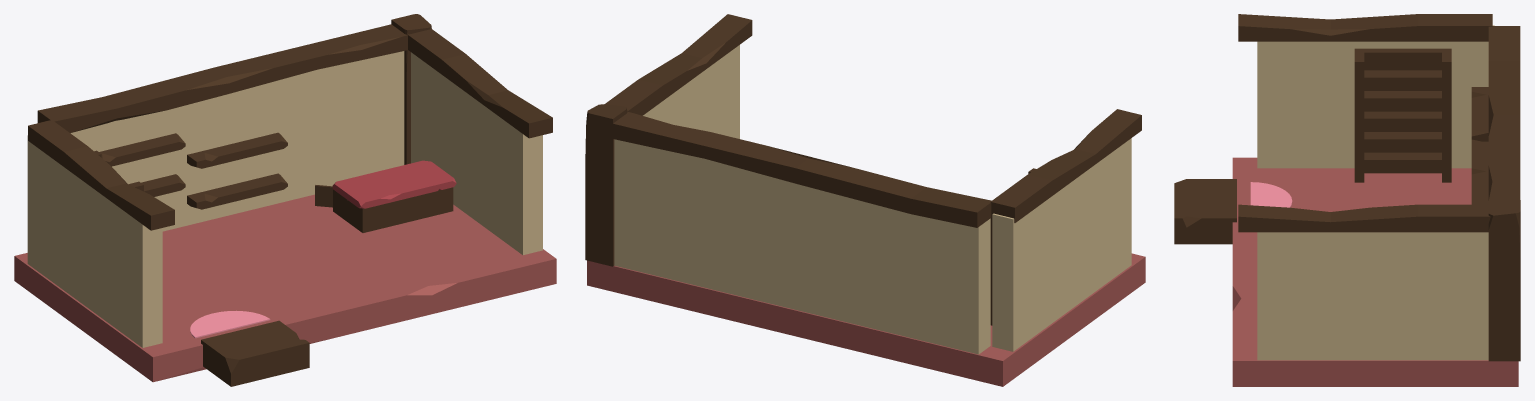
Rendered from TheMagicShop.fbx.
3 renders of one model, left to right at view 1: azimuth 30°, elevation 25°; view 2: azimuth 150°, elevation 25°; view 3: azimuth 270°, elevation 25°, orthographic. The views are drawn at different scales.
Parts seen in each view (by area): view 1: Cube.009, Cube.018, Cube.021, Cube.017, Cube.020, Cube.022, Cube.019, Cube.027, Cube.023, Cube.026, Cube.016, Circle.001; view 2: Cube.021, Cube.018, Cube.009, Cube.017, Cube.020, Cube.016; view 3: Cube.018, Cube.009, Cube.020, Cube.024, Cube.017, Cube.016, Cube.025, Cube.022, Cube.026, Circle.001, Cube.027.
Part boxes in pixels (x1,y1,x2,y2): Cube.009: (14,194,556,382); Cube.018: (27,52,542,347); Cube.021: (70,51,404,231); Cube.017: (37,24,407,133); Cube.020: (28,28,552,230); Cube.022: (201,320,309,386); Cube.019: (332,160,456,208); Cube.027: (187,132,287,209); Cube.023: (315,185,453,232); Cube.026: (99,133,185,196); Cube.016: (391,14,431,164); Circle.001: (190,310,270,338); Cube.021: (614,139,990,354); Cube.018: (643,45,1131,351); Cube.009: (587,253,1145,386); Cube.017: (613,112,991,227); Cube.020: (605,14,1141,222); Cube.016: (585,104,627,266); Cube.018: (1257,25,1494,360); Cube.009: (1232,157,1518,386); Cube.020: (1238,14,1492,232); Cube.024: (1354,48,1451,182); Cube.017: (1488,26,1520,201); Cube.016: (1488,200,1520,361); Cube.025: (1364,70,1441,164); Cube.022: (1174,179,1236,244); Cube.026: (1471,87,1488,163); Circle.001: (1250,182,1292,207); Cube.027: (1471,163,1488,204).
Size of the model in its own units: 2399 by 955 by 1720.
